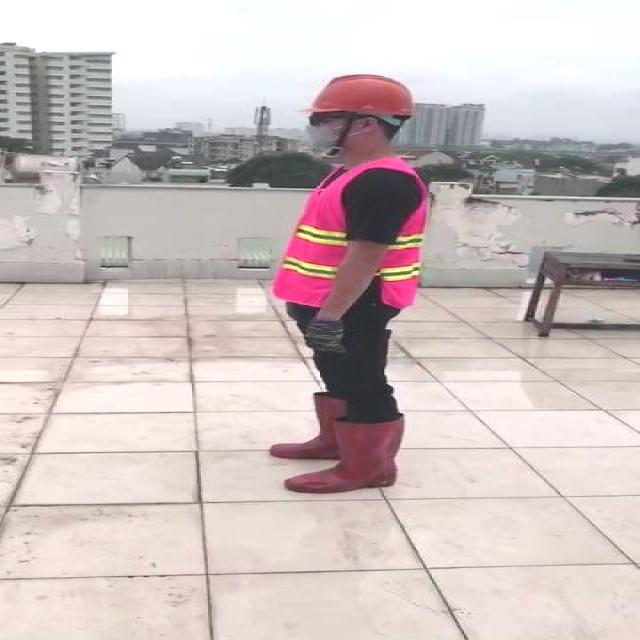boots: (283, 408, 416, 497), (272, 389, 372, 459)
face_mask: (302, 110, 354, 152)
hand_glove: (301, 322, 348, 355)
head_helmet: (298, 72, 417, 116)
person: (257, 71, 442, 502)
vest: (276, 160, 430, 307)
